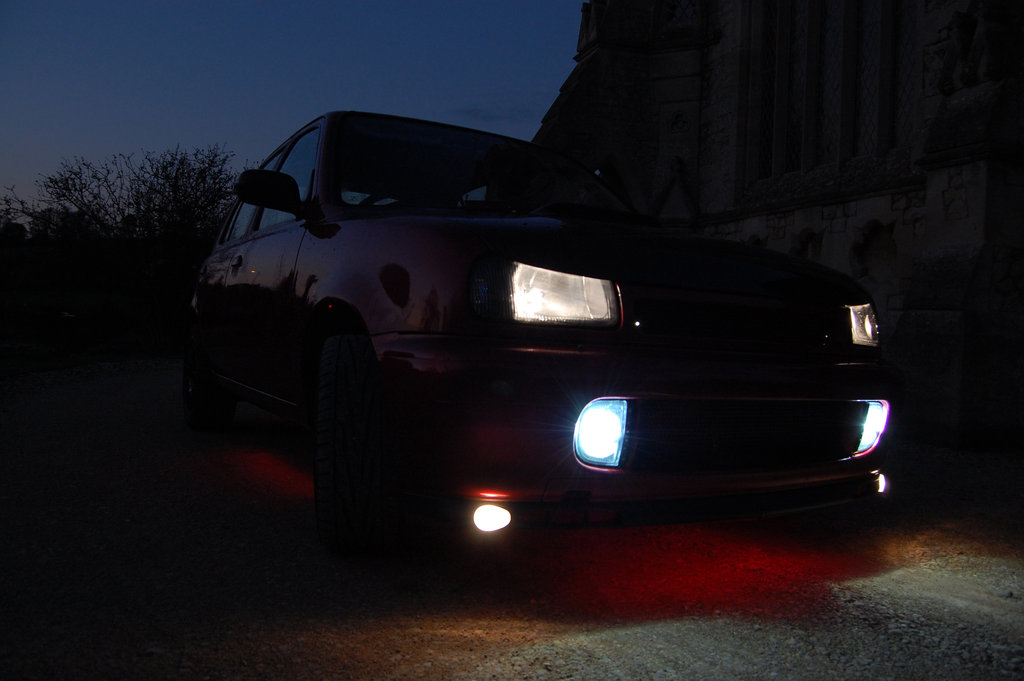car: (161, 100, 923, 600)
